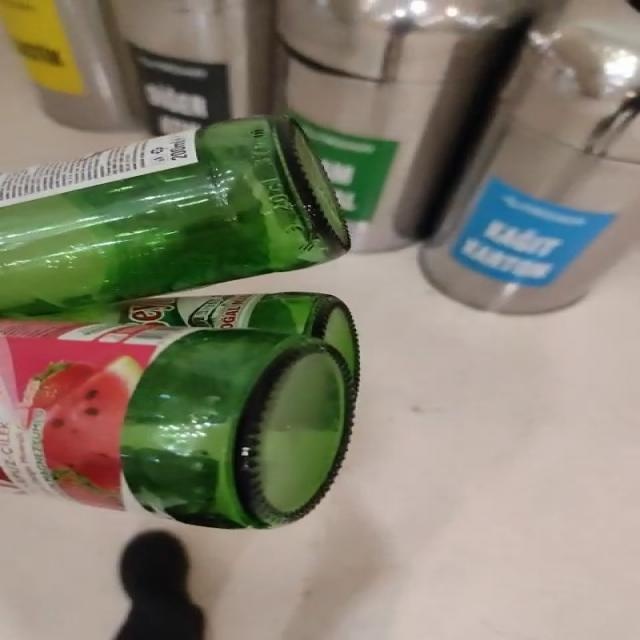glass: (1, 116, 360, 529)
